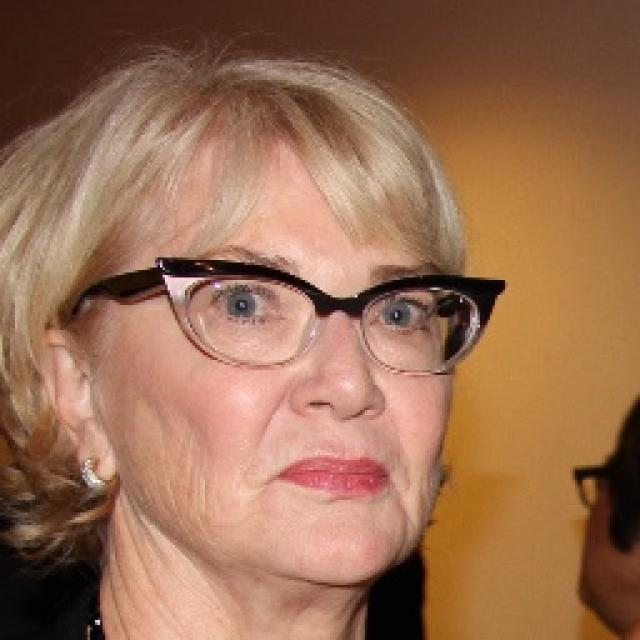earlobe: (71, 420, 117, 483)
eye: (207, 282, 283, 322), (372, 297, 432, 332)
nose: (292, 394, 396, 460)
wholeear: (33, 329, 117, 483)
